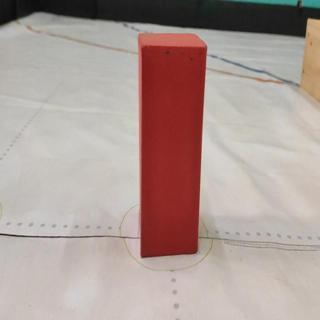redbox: (137, 32, 208, 259)
